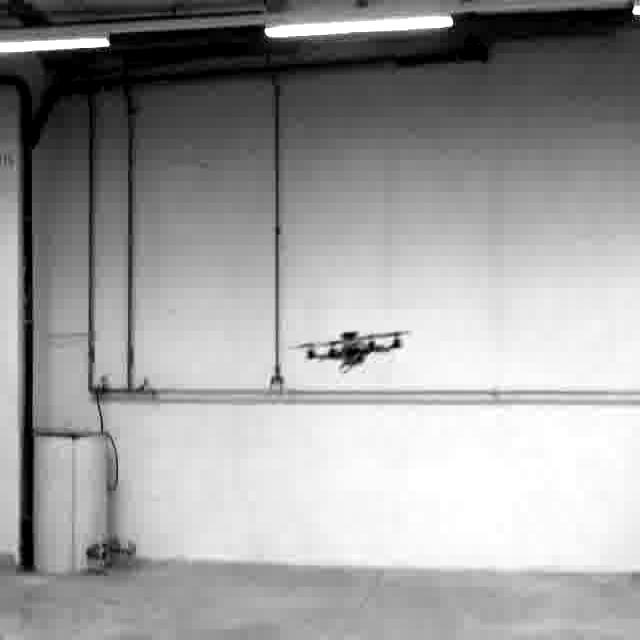drone: (296, 325, 417, 376)
